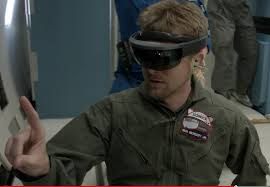hololens: (128, 26, 209, 76)
